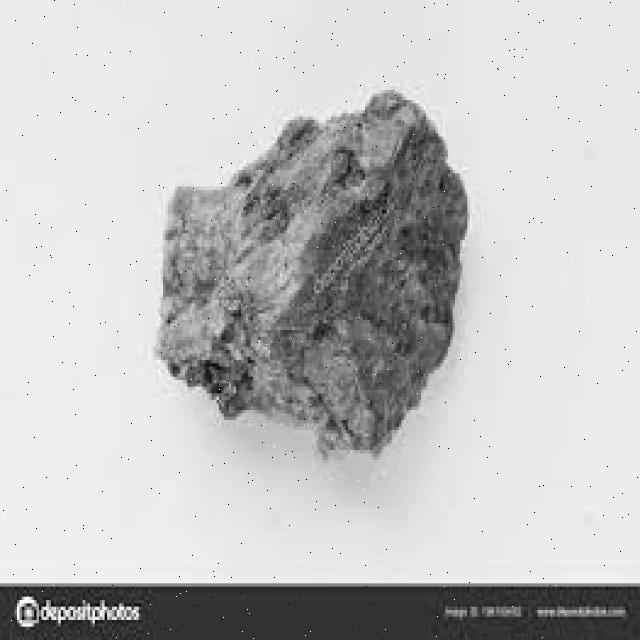Metamorphic: (153, 90, 474, 447)
